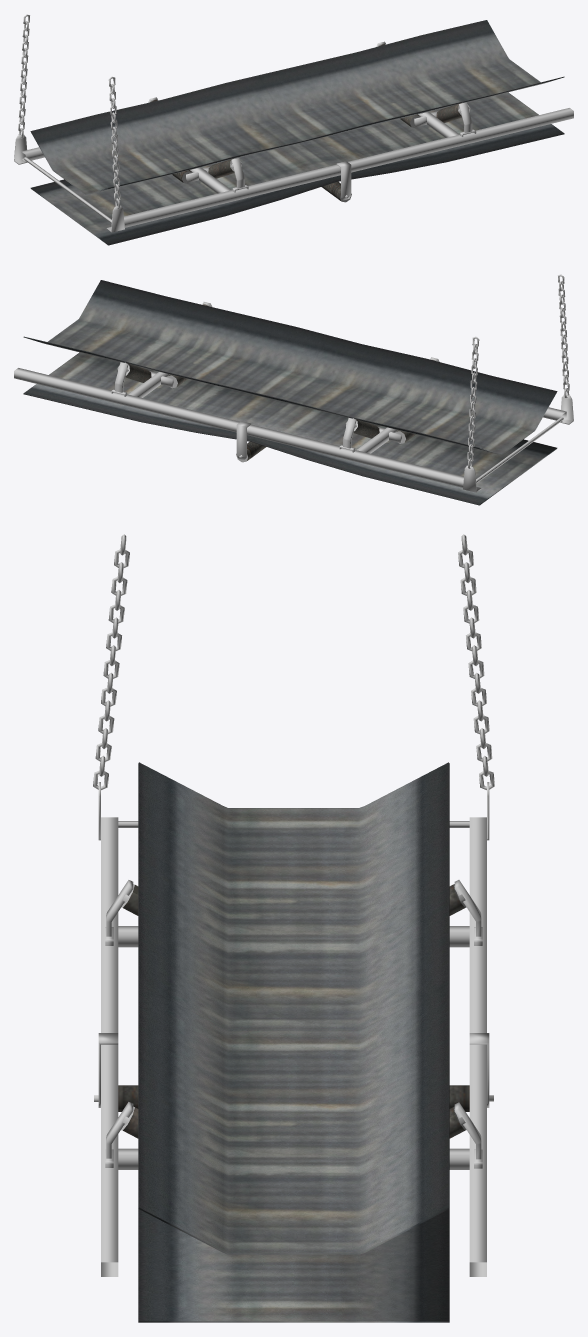
Rendered from conveyor_straight.FBX.
3 views of the same model, one above another, from view 1: azimuth 30°, elevation 25°; view 2: azimuth 150°, elevation 25°; view 3: azimuth 270°, elevation 25° (orthographic). The views are drawn at different scales.
Parts seen in each view (by area): view 1: Mine_Conveyor_Straight_Mesh; view 2: Mine_Conveyor_Straight_Mesh; view 3: Mine_Conveyor_Straight_Mesh.
Boxes of the visible parts, box(x1,y1,x2,y2) form: Mine_Conveyor_Straight_Mesh: box(14, 14, 573, 245); Mine_Conveyor_Straight_Mesh: box(14, 274, 573, 505); Mine_Conveyor_Straight_Mesh: box(93, 534, 494, 1322).
Bounding box in the file's own units: 609 × 223 × 229.
